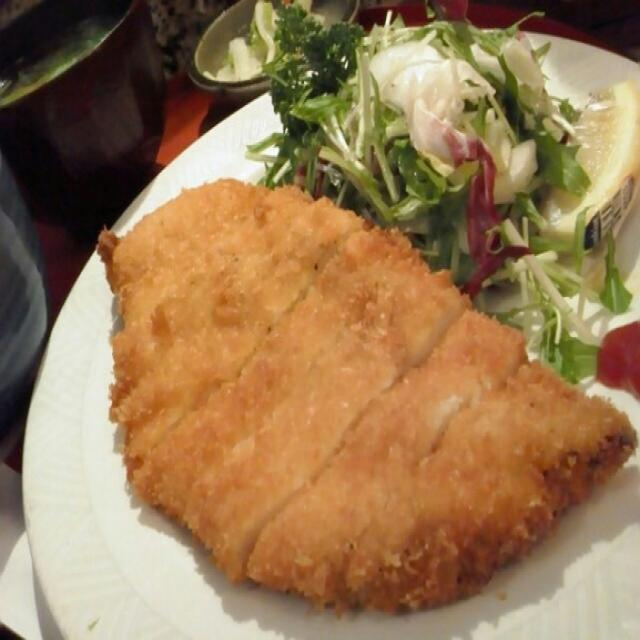鸡肉料理 含炸鸡: (66, 149, 631, 612)
